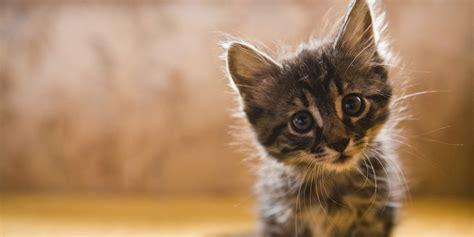cat: (226, 1, 395, 237)
